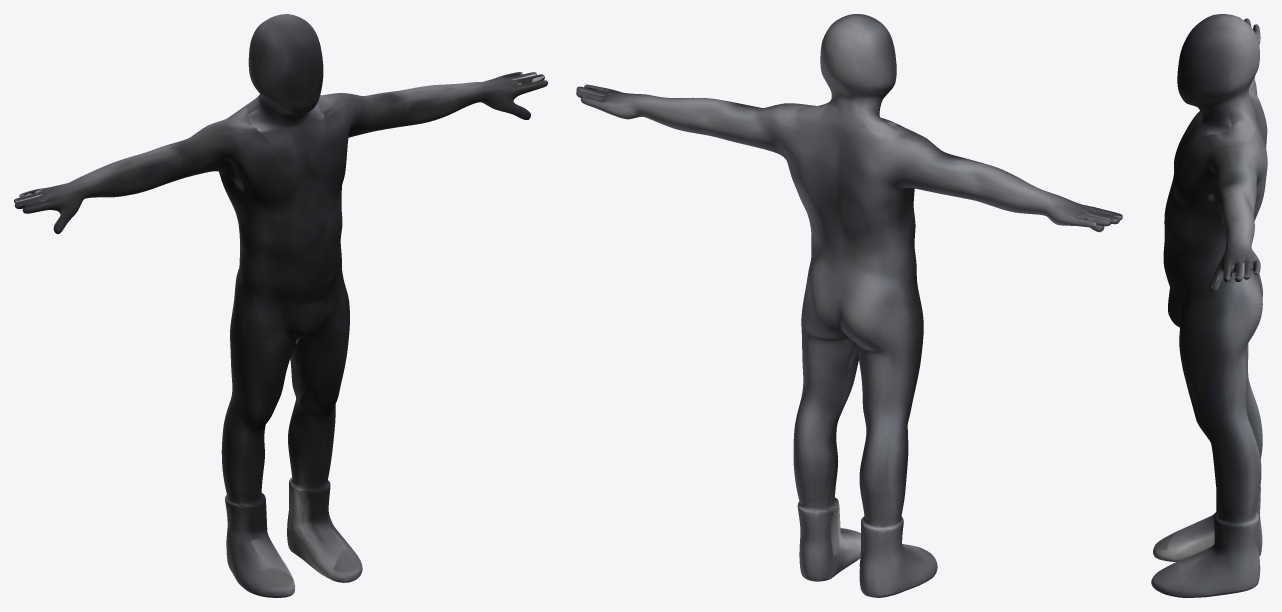
Rendered from TripoSG.glb.
3 views of the same model, side by side, from view 1: azimuth 30°, elevation 25°; view 2: azimuth 150°, elevation 25°; view 3: azimuth 270°, elevation 25° (orthographic). The views are drawn at different scales.
Visible parts, largest first — view 1: geometry_0; view 2: geometry_0; view 3: geometry_0.
Part boxes in pixels (x1,y1,x2,y2): geometry_0: (14,14,547,597); geometry_0: (576,14,1122,597); geometry_0: (1151,14,1267,597).
Bounding box in the file's own units: 1.87 × 1.85 × 0.3515.
Materials: 1 (1 with a texture image).
